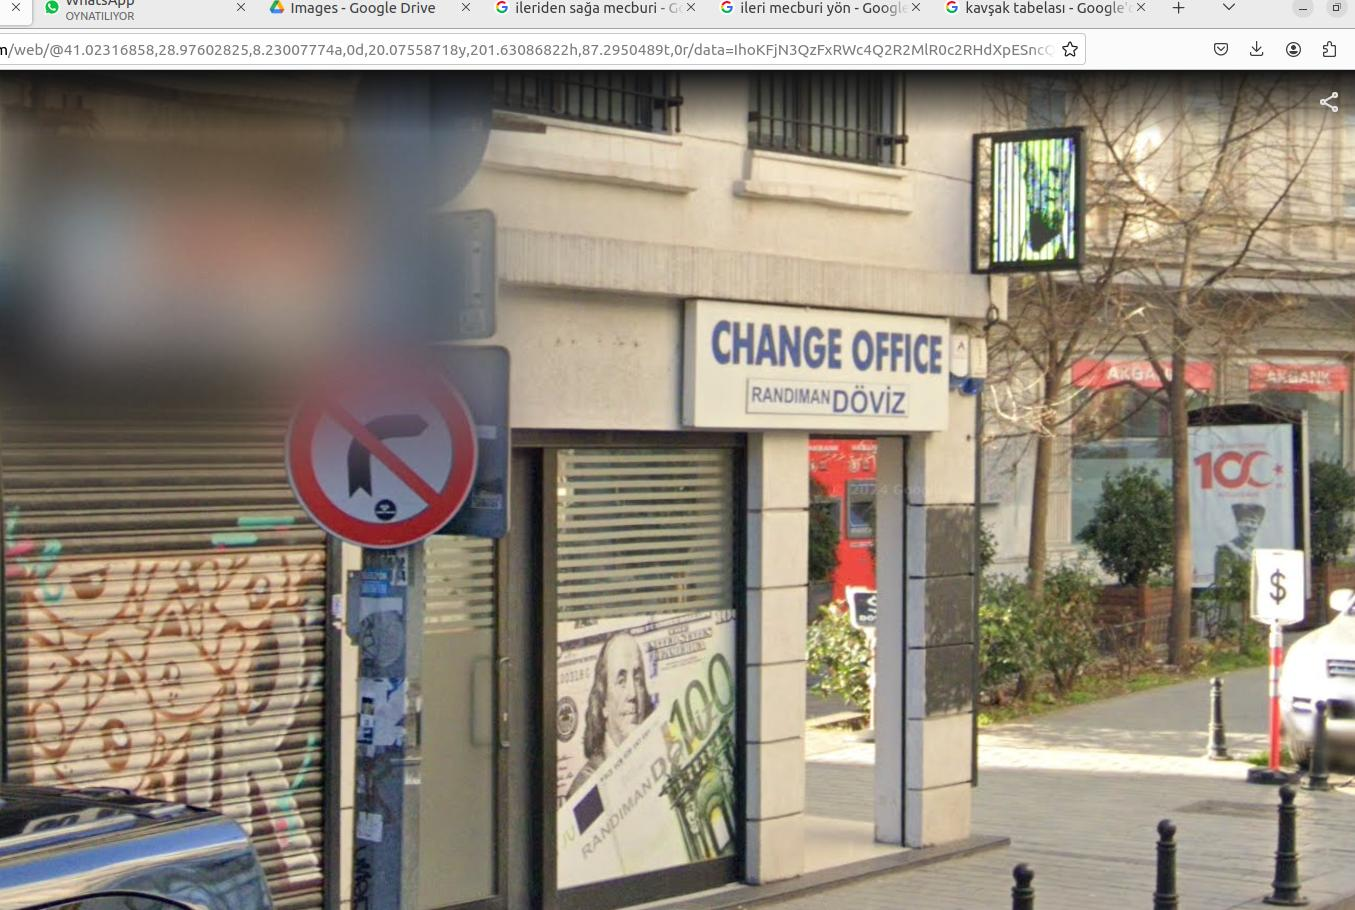rightturnsareforbidden: (286, 351, 475, 541)
